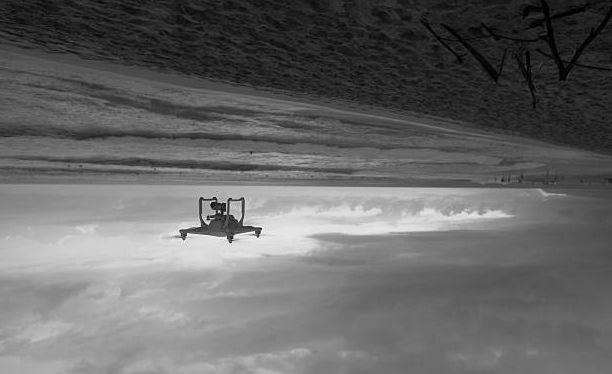Drone: (160, 194, 272, 243)
